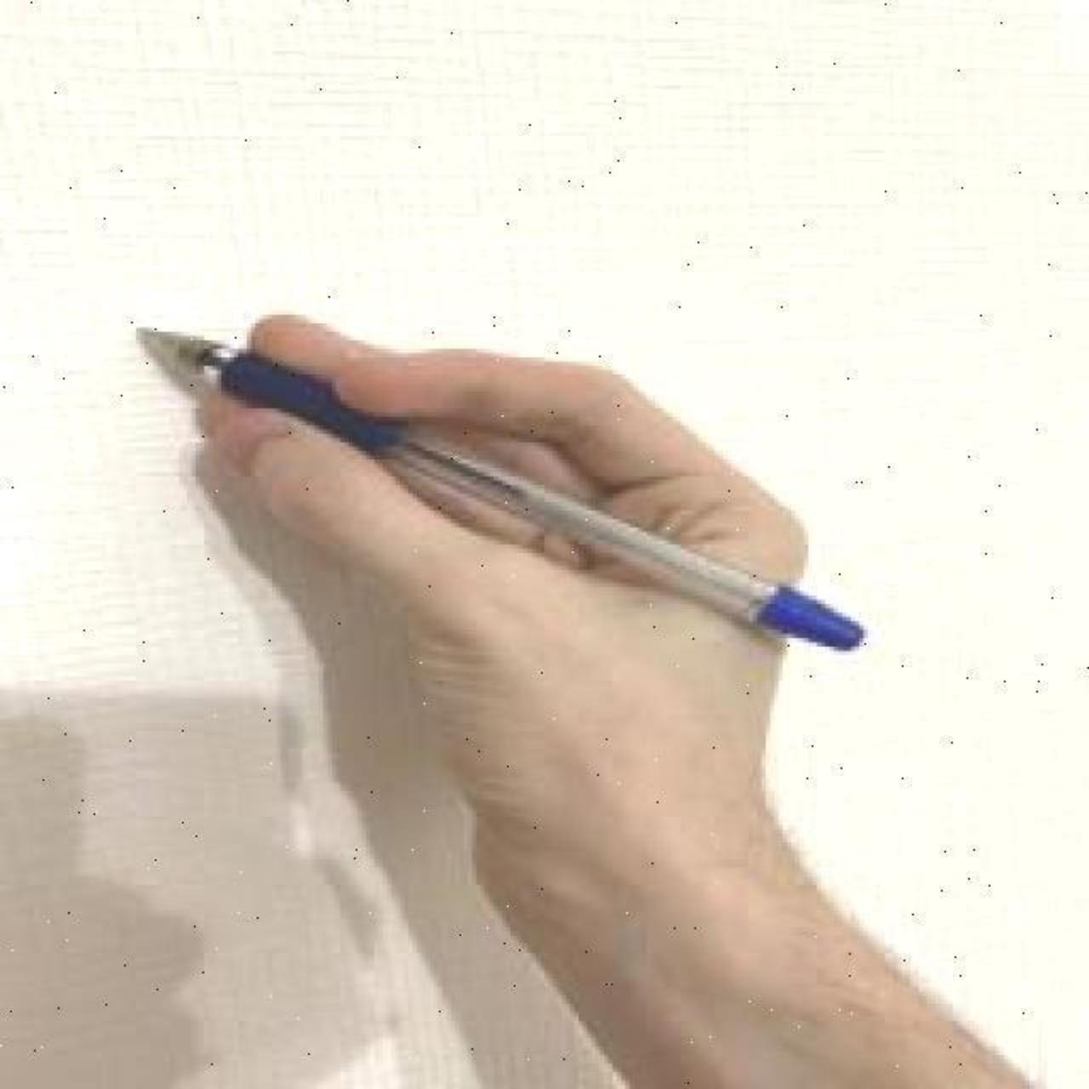pen: (136, 323, 864, 655)
